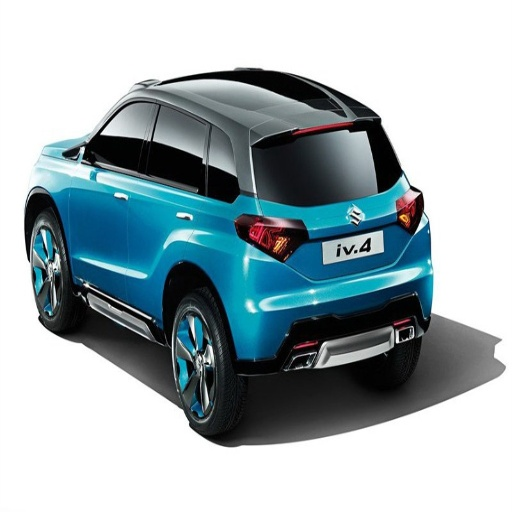back_bumper: (224, 233, 432, 372)
back_glass: (278, 143, 399, 205), (228, 77, 322, 112)
back_left_door: (124, 100, 200, 304)
tailgate: (288, 191, 392, 277)
trunk: (374, 184, 410, 269)
